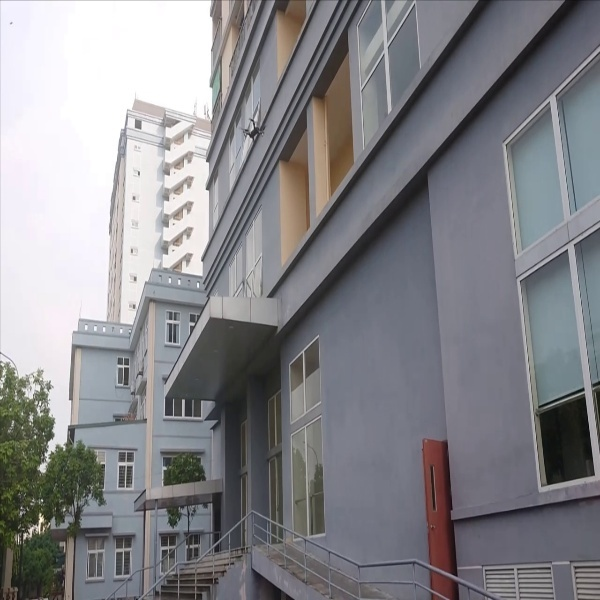drone: (237, 113, 267, 144)
